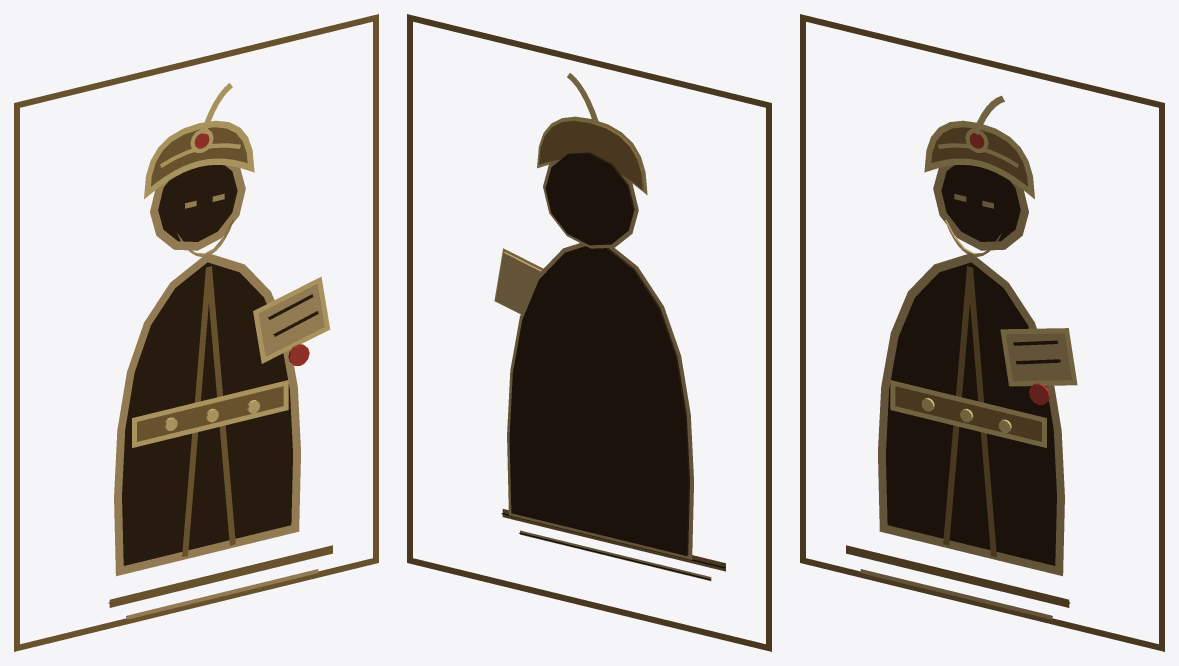
Rendered from npc-emir.glb.
The picture shows the model from 3 angles, left to right: view 1: azimuth 30°, elevation 25°; view 2: azimuth 150°, elevation 25°; view 3: azimuth 330°, elevation 25°; orthographic projection.
Parts seen in each view (by area): view 1: npc-emir; view 2: npc-emir; view 3: npc-emir.
Part boxes in pixels (left/top/right/bottom): npc-emir: left=14, top=14, right=378, bottom=651; npc-emir: left=407, top=14, right=771, bottom=651; npc-emir: left=800, top=14, right=1164, bottom=651.
Bounding box in the file's own units: 1.14 × 1.64 × 0.1429.
